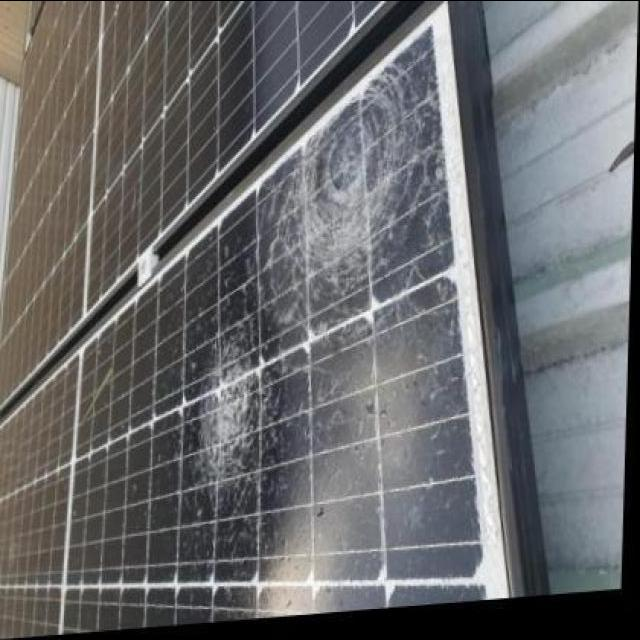cracked: (1, 27, 542, 625)
